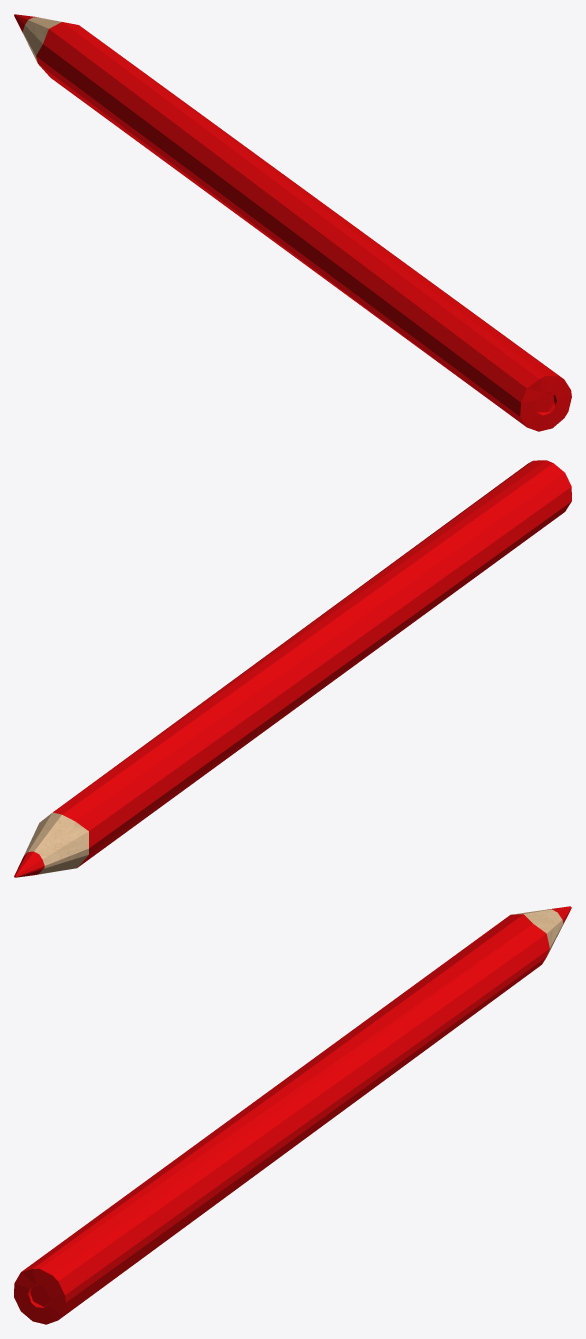
Rendered from Pencil.FBX.
3 renders of one model, top to bottom at view 1: azimuth 30°, elevation 25°; view 2: azimuth 150°, elevation 25°; view 3: azimuth 330°, elevation 25°, orthographic.
Visible parts, largest first — view 1: pencil; view 2: pencil; view 3: pencil.
Part boxes in pixels (x1,y1,x2,y2): pencil: [14, 14, 571, 431]; pencil: [14, 460, 571, 877]; pencil: [14, 906, 571, 1324].
Size of the model in its own units: 0.8 by 0.7864 by 13.94.
1 material, 1 textured.
